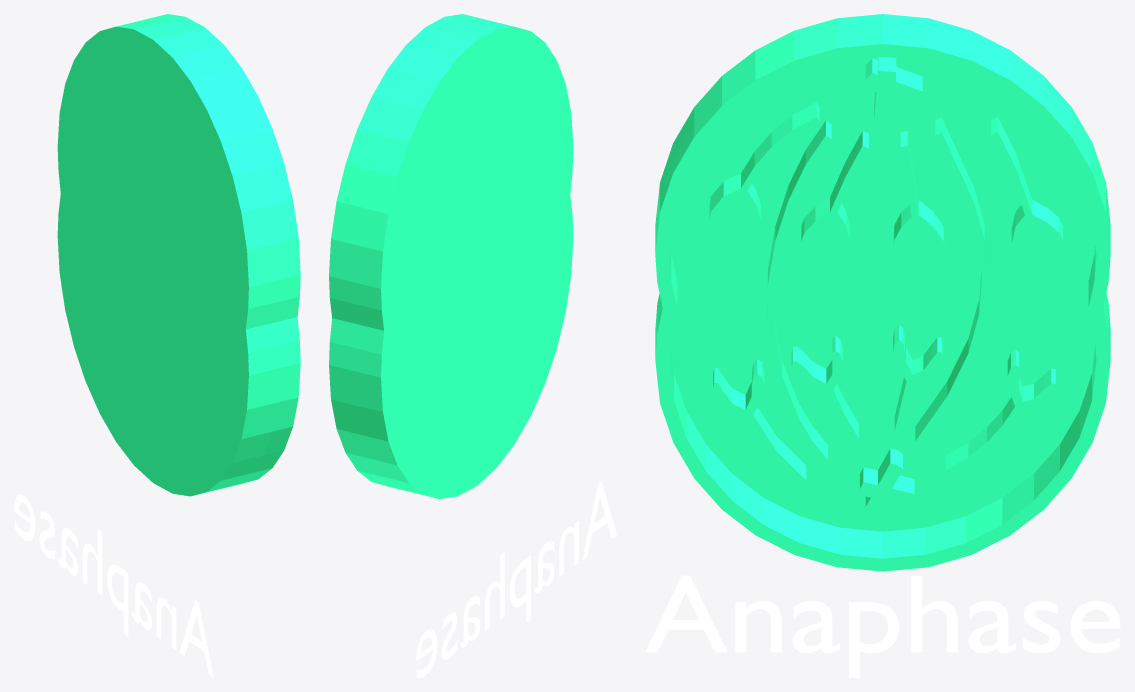
Rendered from Anaphase.glb.
3 views of the same model, side by side, from view 1: azimuth 30°, elevation 25°; view 2: azimuth 150°, elevation 25°; view 3: azimuth 270°, elevation 25° (orthographic). The views are drawn at different scales.
Visible parts, largest first — view 1: mitosis Anaphase; view 2: mitosis Anaphase; view 3: mitosis Anaphase.
Part boxes in pixels (bbox=[...]): mitosis Anaphase: bbox=[14, 14, 300, 677]; mitosis Anaphase: bbox=[329, 14, 616, 677]; mitosis Anaphase: bbox=[645, 14, 1120, 677].
Bounding box in the file's own units: 1.63 × 9.87 × 6.19.
